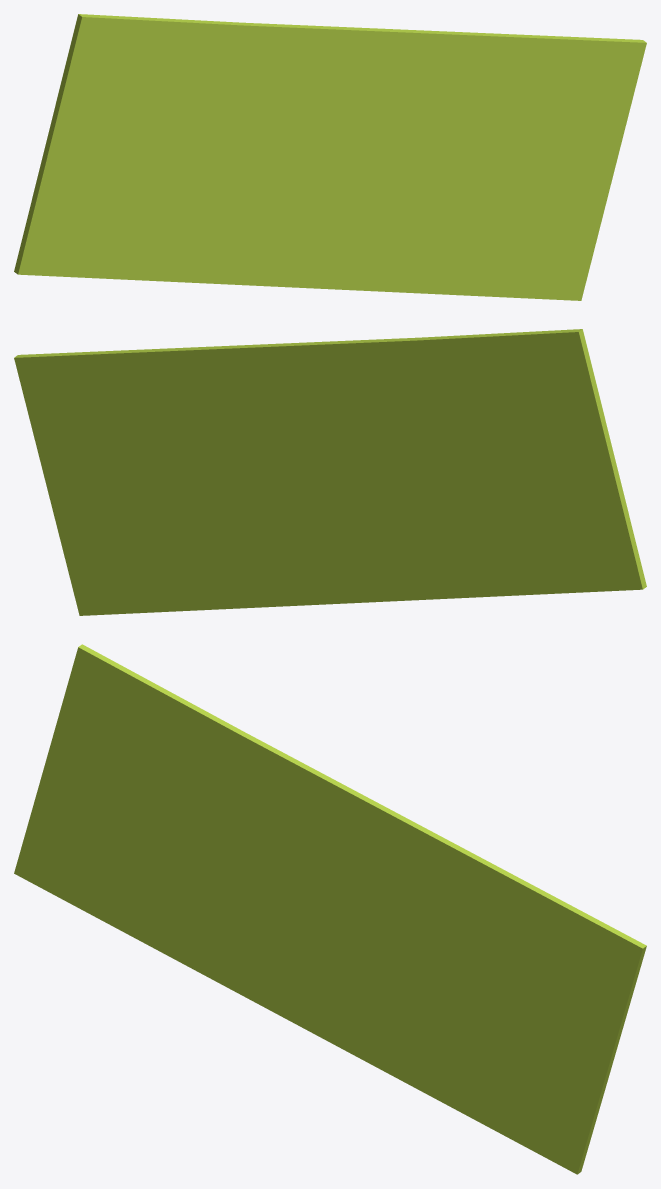
3 renders of one model, top to bottom at view 1: azimuth 30°, elevation 25°; view 2: azimuth 150°, elevation 25°; view 3: azimuth 330°, elevation 25°, orthographic.
Visible parts, largest first — view 1: osm-way27917482-F0; view 2: osm-way27917482-F0; view 3: osm-way27917482-F0.
Part boxes in pixels (left/top/right/bottom): osm-way27917482-F0: left=14, top=14, right=646, bottom=300; osm-way27917482-F0: left=14, top=329, right=646, bottom=615; osm-way27917482-F0: left=14, top=644, right=646, bottom=1174.
Size of the model in its own units: 13.45 by 8.29 by 0.15.
